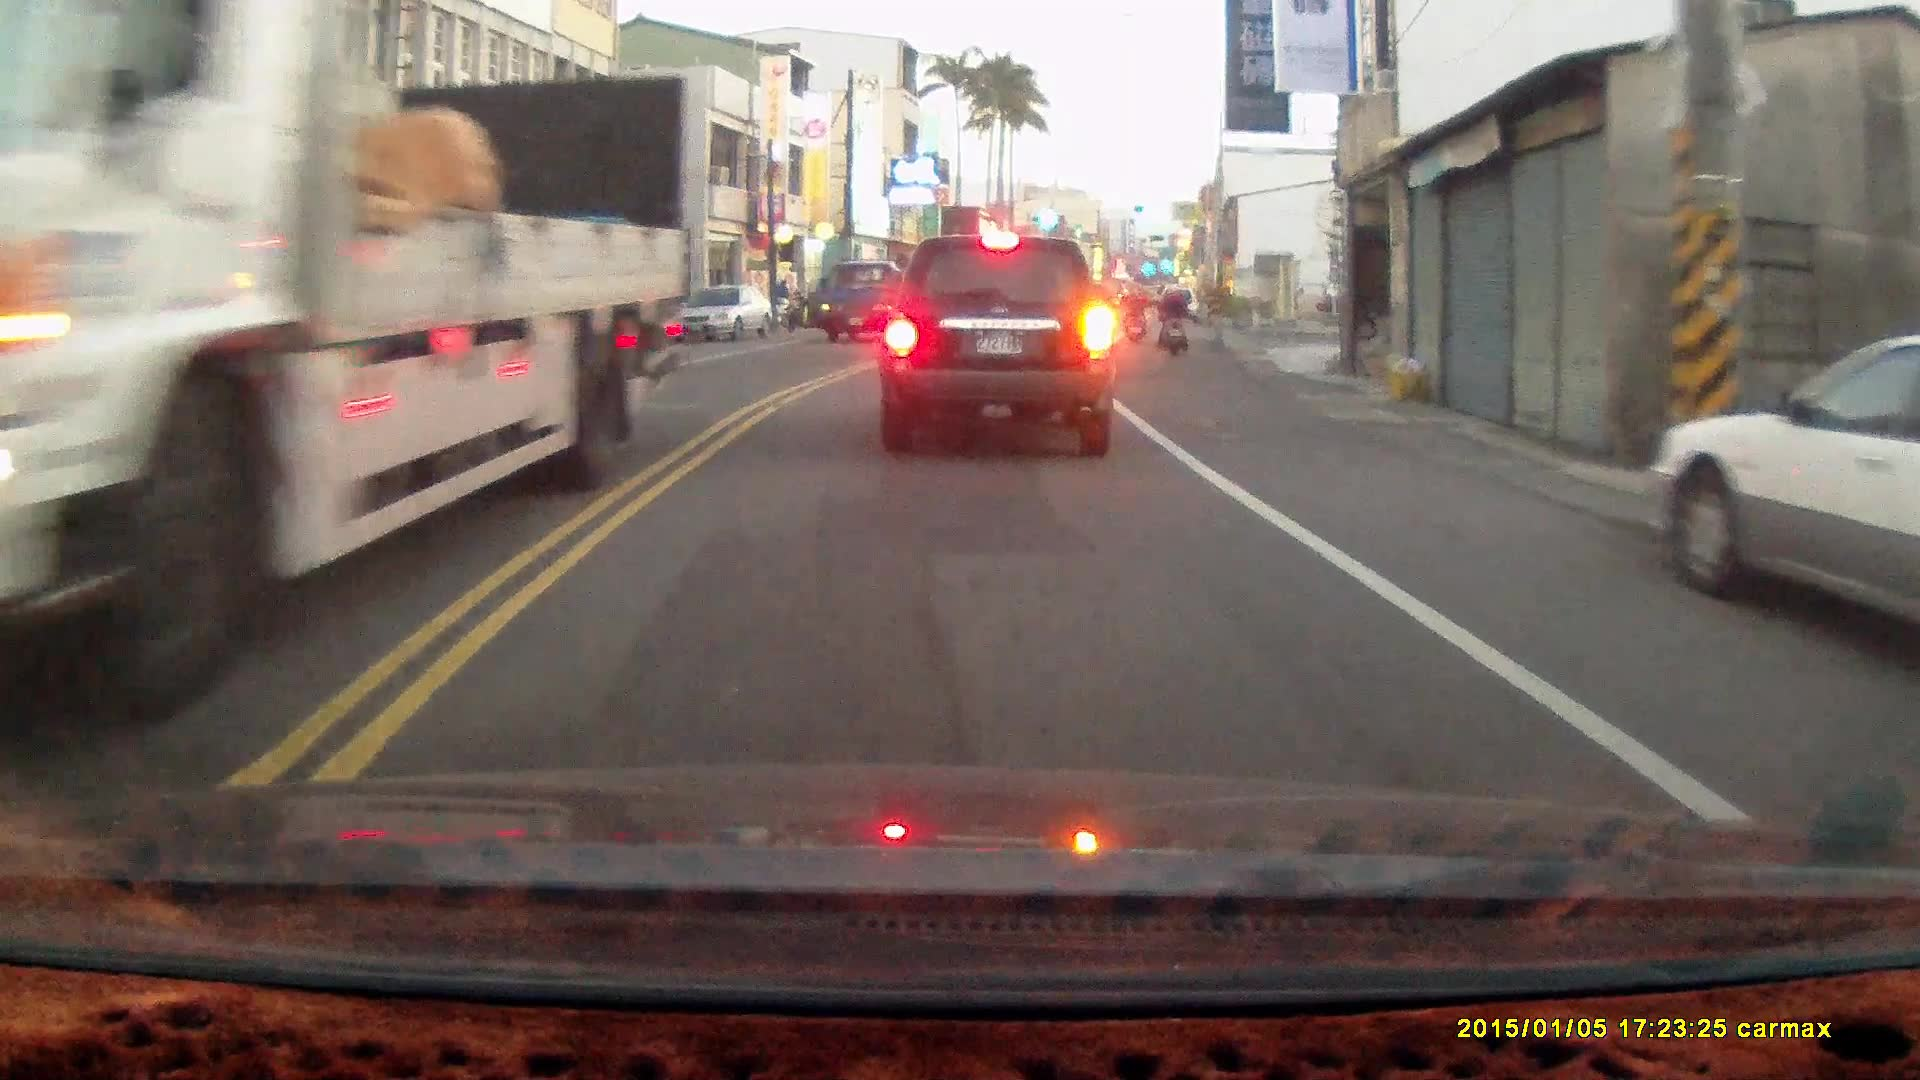rider: (1155, 280, 1186, 360), (1121, 286, 1147, 345)
vehicle: (3, 0, 678, 710), (1648, 339, 1920, 641), (877, 234, 1121, 460), (817, 258, 930, 345), (678, 284, 773, 343)
